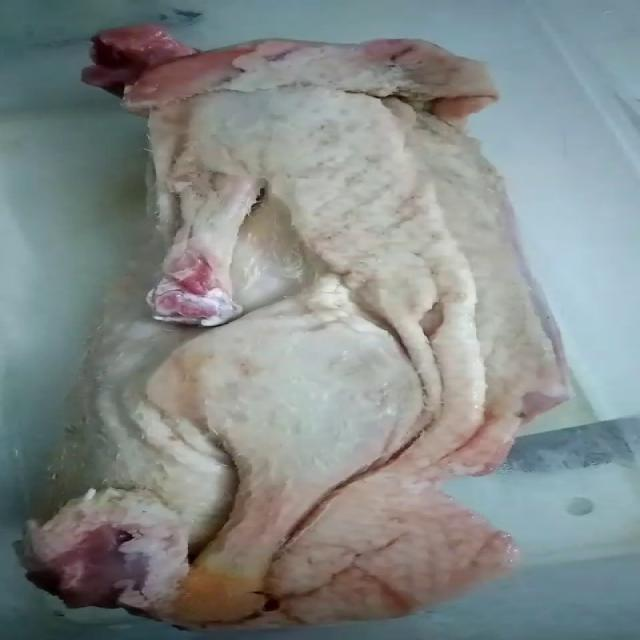chicken: (0, 23, 552, 640)
